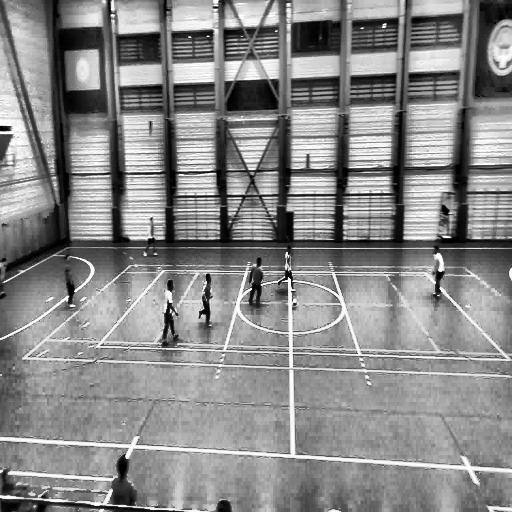ball: (290, 295, 298, 307)
player: (162, 280, 180, 346), (276, 242, 295, 302), (430, 241, 446, 298), (248, 256, 263, 308), (198, 273, 212, 328), (64, 259, 76, 308), (144, 216, 157, 256), (0, 255, 8, 300)
